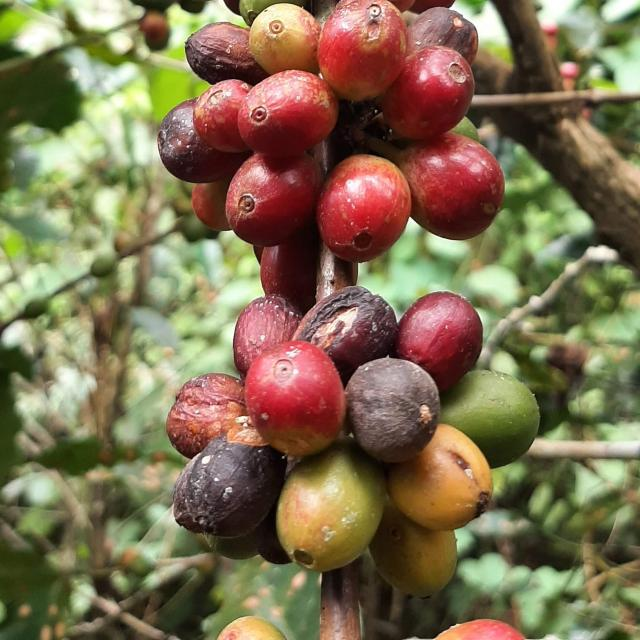green: (441, 370, 541, 469)
red: (173, 435, 286, 538), (400, 131, 505, 240), (317, 154, 412, 262), (293, 286, 397, 384), (345, 358, 441, 463), (225, 152, 323, 246), (394, 291, 483, 392), (237, 69, 339, 157), (382, 45, 475, 139), (157, 97, 251, 183), (166, 374, 246, 459), (233, 295, 302, 379), (260, 222, 319, 314), (184, 21, 268, 84), (249, 2, 321, 74), (193, 79, 252, 152), (407, 6, 479, 64)
yellow: (276, 437, 386, 573), (245, 341, 346, 457), (388, 424, 494, 531), (318, 0, 408, 100), (370, 499, 458, 599), (191, 178, 231, 231), (436, 620, 526, 640), (217, 617, 286, 640)
